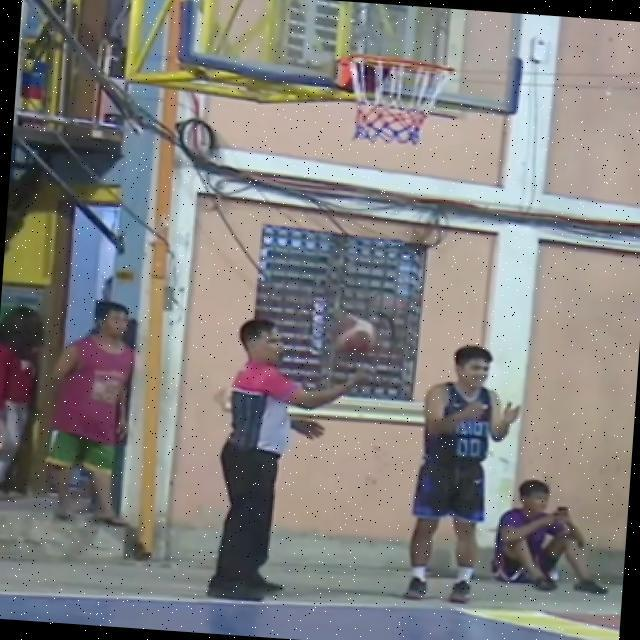ball: (322, 310, 382, 368)
